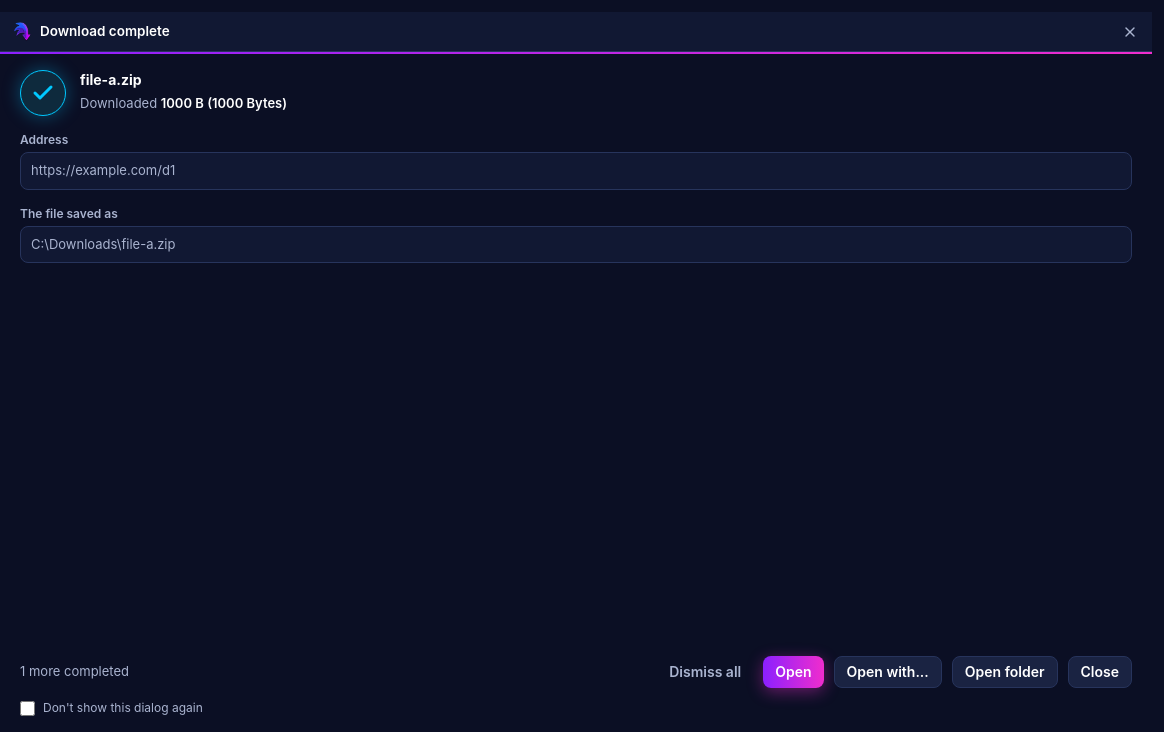
Test: DownloadCompleteDialog queue (Round 87) › a completion queued before the listener existed is recovered from the backend drain (Round 87.5, J5)
The width and height of the screenshot is (1164, 732).
Expected: the text "file-a.zip" is shown, [80,71,142,88]
Expected: the text "1 more completed" is shown, [20,662,129,682]
// Close steps to the drained completion instead of closing.
Click the button "Close" at point(1100, 672), box [1068,656,1132,688]
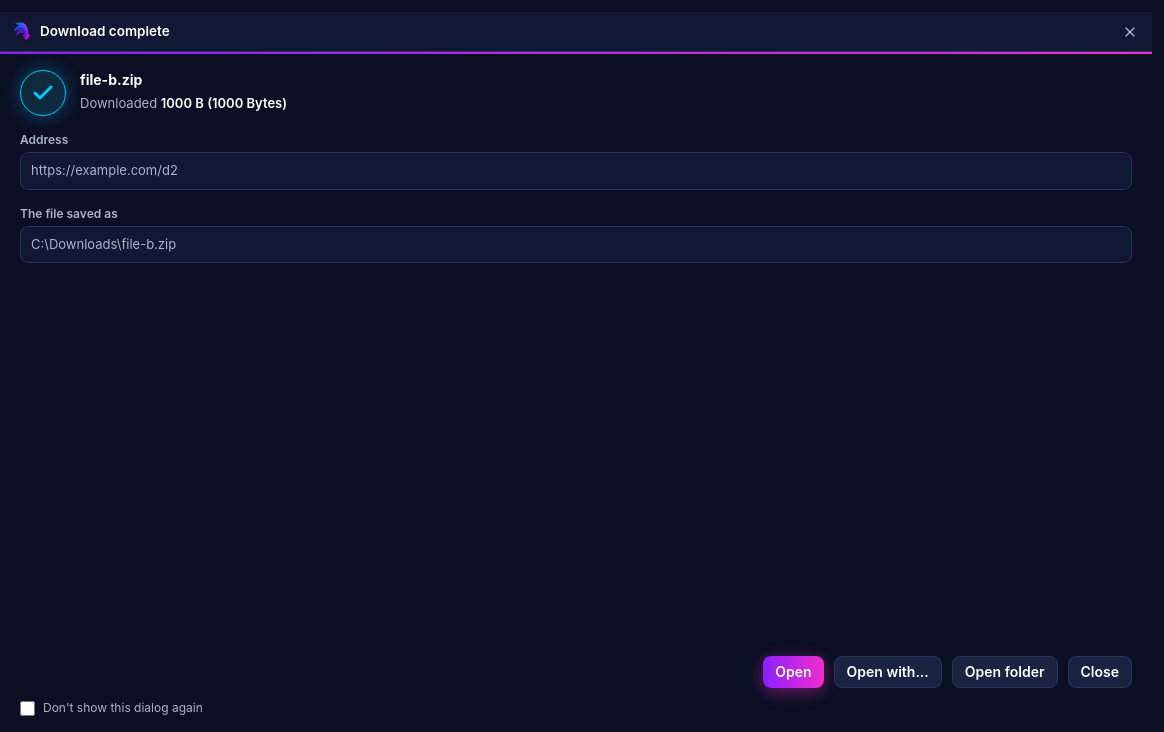
Result: the text "file-b.zip" is shown at [80,71,142,88]
